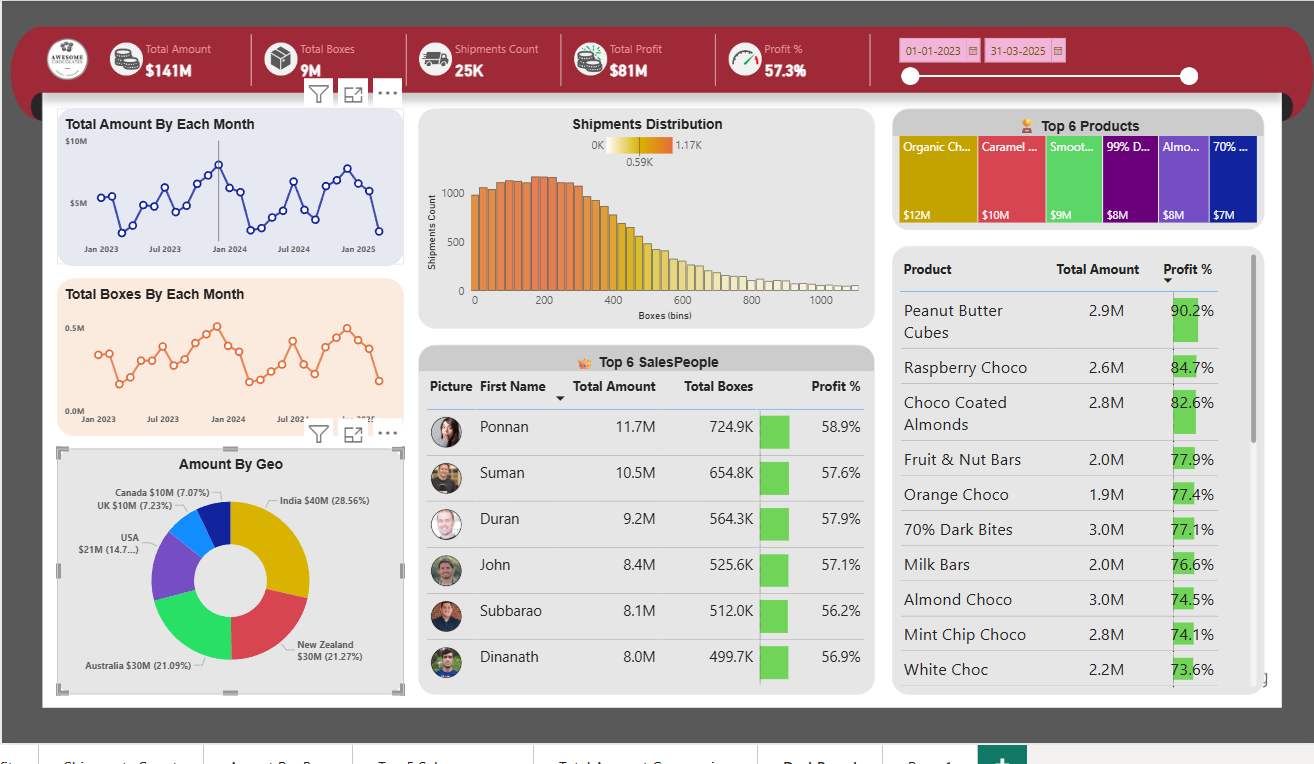

Layout of this report page (visuals, bound fields, positions):
{"tool":"powerbi","page":{"name":"DashBoard","canvas":[1920,1080],"ordinal":5},"visuals":[{"type":"lineChart","title":"Total Amount By Each Month","fields":{"Y":["shipments.Total Amount"],"Category":["calendar.Start of Month"]},"box":[80,155.7,504.3,228.6],"z":0},{"type":"lineChart","title":"Total Boxes By Each Month","fields":{"Category":["calendar.Start of Month"],"Y":["shipments.Total Boxes"]},"box":[80,404.3,504.3,228.6],"z":1000},{"type":"donutChart","title":"Amount By Geo","fields":{"Category":["locations.Geo"],"Y":["shipments.Total Amount"]},"box":[80,651.4,504.3,357.1],"z":2000},{"type":"clusteredColumnChart","title":"Shipments Distribution","fields":{"Category":["shipments.Boxes (bins)"],"Y":["shipments.Shipments Count"]},"box":[605.7,155.7,664.3,320],"z":2001},{"type":"tableEx","title":"👑 Top 6 SalesPeople","fields":{"Values":["people.Picture","people.First Name","shipments.Total Amount","shipments.Total Boxes","shipments.Profit %"]},"box":[605.7,500,664.3,508.6],"z":2002},{"type":"treemap","title":"🏆 Top 6 Products","fields":{"Values":["shipments.Total Amount"],"Group":["products.Product"]},"box":[1294.3,155.7,541.4,177.1],"z":2003},{"type":"tableEx","title":"👑 Top 6 SalesPeople","fields":{"Values":["products.Product","shipments.Total Amount","shipments.Profit %"]},"box":[1294.3,355.7,541.4,652.9],"z":2004},{"type":"cardVisual","fields":{"Data":["shipments.Total Amount","shipments.Total Boxes","shipments.Shipments Count","shipments.Total Profit","shipments.Profit %"]},"box":[142.5,43.8,1127.5,85],"z":2005},{"type":"slicer","fields":{"Values":["calendar.cal_date"]},"box":[1293.3,43.3,455,85],"z":2007}]}

Visuals, with their boxes on the page's 1920x1080 design canvas (x1, y1, x2, y2). These are canvas units, not pixel positions in the 1314x764 screenshot, which may show the page scaled, cropped or inside an application window:
"Total Amount By Each Month" lineChart: [left=80, top=156, right=584, bottom=384]
"Total Boxes By Each Month" lineChart: [left=80, top=404, right=584, bottom=633]
"Amount By Geo" donutChart: [left=80, top=651, right=584, bottom=1008]
"Shipments Distribution" clusteredColumnChart: [left=606, top=156, right=1270, bottom=476]
"👑 Top 6 SalesPeople" tableEx: [left=606, top=500, right=1270, bottom=1009]
"🏆 Top 6 Products" treemap: [left=1294, top=156, right=1836, bottom=333]
"👑 Top 6 SalesPeople" tableEx: [left=1294, top=356, right=1836, bottom=1009]
cardVisual - shipments.Total Amount x shipments.Total Boxes: [left=142, top=44, right=1270, bottom=129]
slicer - calendar.cal_date: [left=1293, top=43, right=1748, bottom=128]
